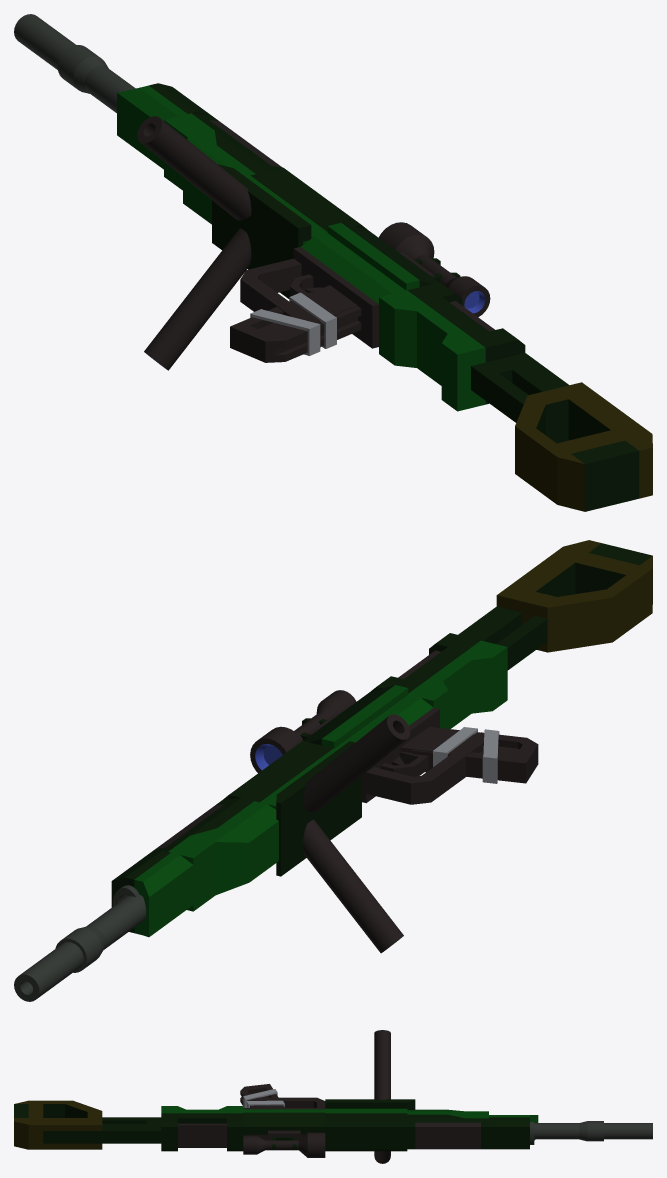
Rendered from Sniper.glb.
3 renders of one model, top to bottom at view 1: azimuth 30°, elevation 25°; view 2: azimuth 150°, elevation 25°; view 3: azimuth 270°, elevation 25°, orthographic. The views are drawn at different scales.
Visible parts, largest first — view 1: mergedBlocks(Clone); view 2: mergedBlocks(Clone); view 3: mergedBlocks(Clone).
Boxes of the visible parts, left/top/right/bottom form: mergedBlocks(Clone): left=14, top=14, right=652, bottom=511; mergedBlocks(Clone): left=14, top=540, right=652, bottom=1001; mergedBlocks(Clone): left=14, top=1030, right=652, bottom=1163.
Bounding box in the file's own units: 1.77 × 1.78 × 7.8.
